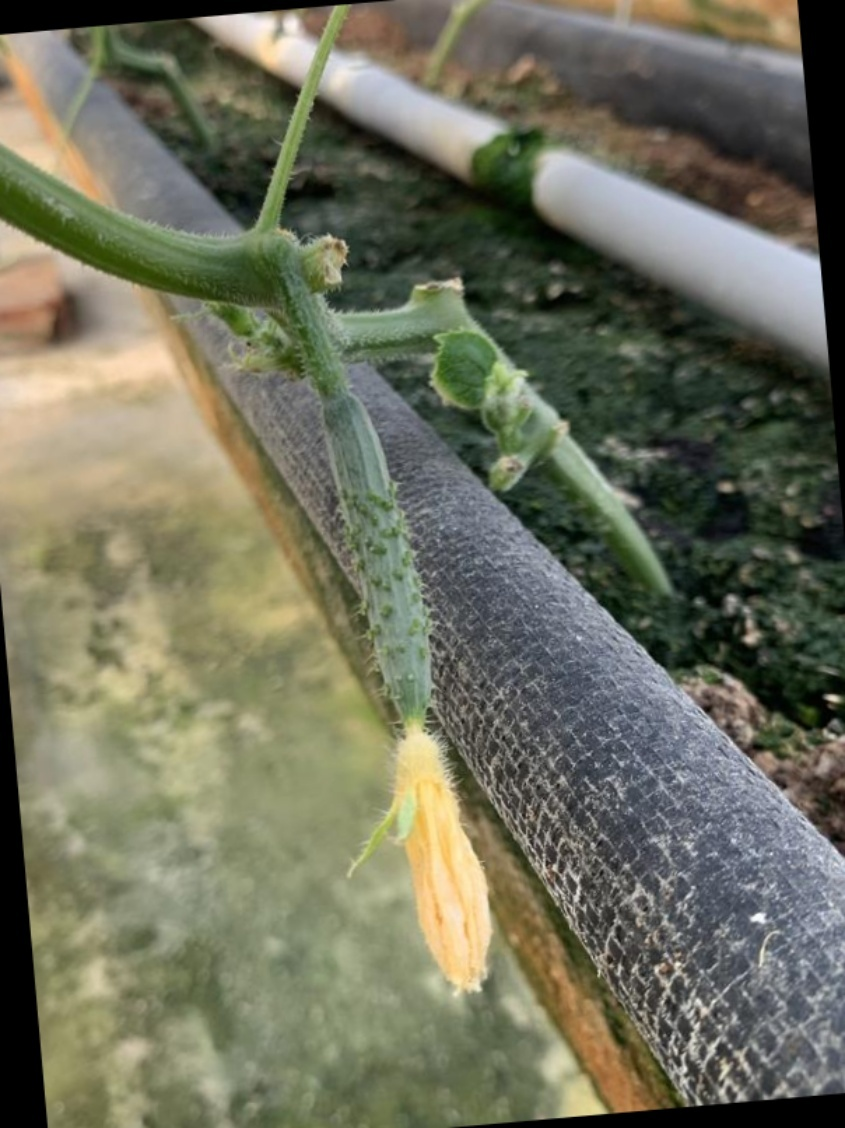bear: (297, 372, 518, 1006)
